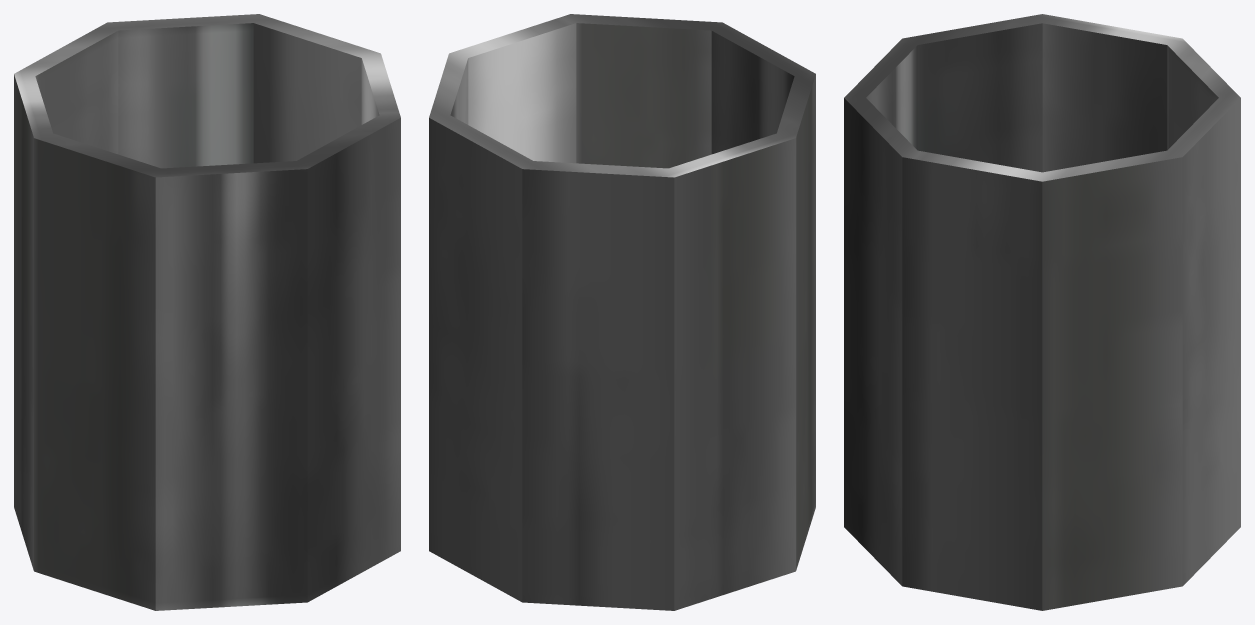
Rendered from trash.gltf.
3 renders of one model, left to right at view 1: azimuth 30°, elevation 25°; view 2: azimuth 150°, elevation 25°; view 3: azimuth 270°, elevation 25°, orthographic.
Parts seen in each view (by area): view 1: Cylinder; view 2: Cylinder; view 3: Cylinder.
Boxes of the visible parts, x1=… form: Cylinder: x1=14, y1=14, x2=400, y2=610; Cylinder: x1=429, y1=14, x2=815, y2=610; Cylinder: x1=844, y1=14, x2=1240, y2=610.
Bounding box in the file's own units: 2 × 2.39 × 2.
2 materials, 2 textured.
